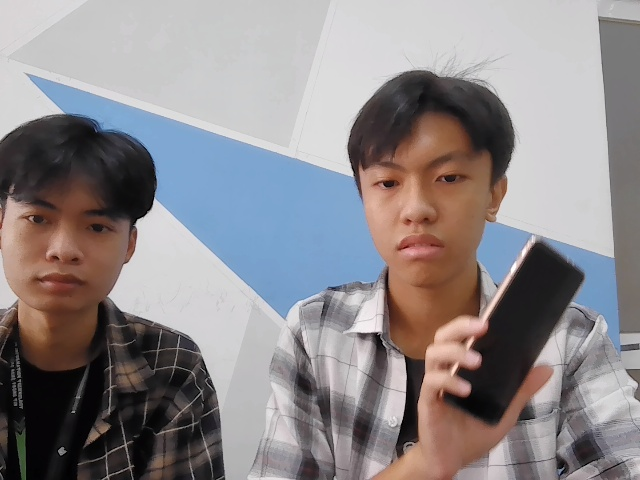human: (357, 68, 511, 285), (1, 105, 153, 319)
phone: (429, 227, 594, 431)
